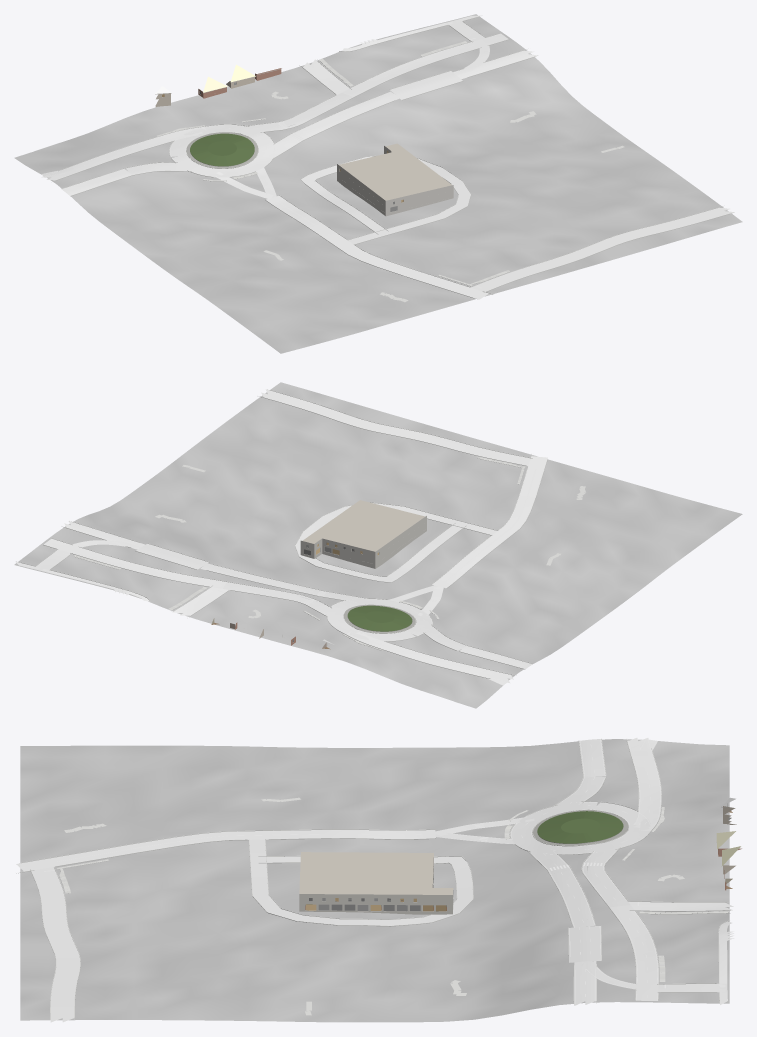
3 renders of one model, top to bottom at view 1: azimuth 30°, elevation 25°; view 2: azimuth 150°, elevation 25°; view 3: azimuth 270°, elevation 25°, orthographic. The views are drawn at different scales.
Visible parts, largest first — view 1: ground, asphalt, concrete, curb, roof_flat, detail, wall_com, walk, mark_w, mark_y; view 2: ground, asphalt, concrete, curb, roof_flat, wall_com, detail, walk, mark_w, mark_y; view 3: ground, asphalt, concrete, roof_flat, curb, detail, wall_com, walk, mark_w, mark_y, glass.
Boxes of the visible parts, left/top/right/bottom form: ground: left=14, top=14, right=742, bottom=353; asphalt: left=41, top=19, right=538, bottom=299; concrete: left=301, top=15, right=734, bottom=291; curb: left=52, top=16, right=733, bottom=298; roof_flat: left=339, top=143, right=451, bottom=200; detail: left=155, top=68, right=403, bottom=212; wall_com: left=337, top=146, right=453, bottom=216; walk: left=157, top=41, right=624, bottom=302; mark_w: left=44, top=33, right=530, bottom=293; mark_y: left=45, top=39, right=521, bottom=296; ground: left=14, top=382, right=742, bottom=708; asphalt: left=33, top=456, right=547, bottom=685; concrete: left=15, top=389, right=530, bottom=615; curb: left=16, top=389, right=547, bottom=678; roof_flat: left=302, top=500, right=424, bottom=551; wall_com: left=300, top=516, right=426, bottom=568; detail: left=216, top=544, right=416, bottom=646; walk: left=73, top=456, right=585, bottom=650; mark_w: left=45, top=455, right=543, bottom=684; mark_y: left=52, top=457, right=539, bottom=681; ground: left=20, top=739, right=729, bottom=1022; asphalt: left=16, top=738, right=727, bottom=1005; concrete: left=31, top=839, right=734, bottom=1022; roof_flat: left=299, top=852, right=453, bottom=894; curb: left=16, top=738, right=732, bottom=1019; detail: left=309, top=803, right=731, bottom=911; wall_com: left=299, top=857, right=453, bottom=914; walk: left=57, top=797, right=728, bottom=1015; mark_w: left=24, top=738, right=665, bottom=1003; mark_y: left=21, top=739, right=645, bottom=1002; glass: left=309, top=898, right=420, bottom=911.
Bounding box in the file's own units: 254 × 19.03 × 257.
